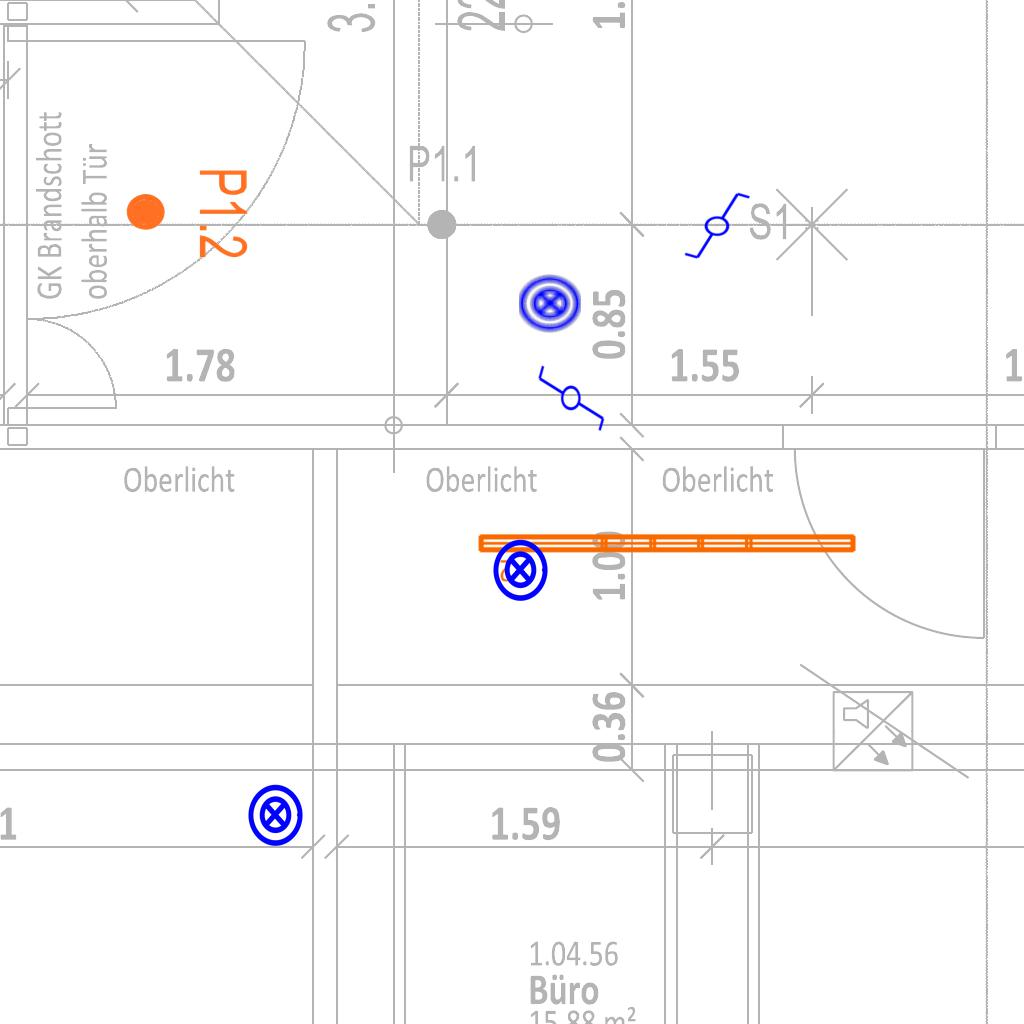Ambulanz_Pendelleuchte_LED: (474, 528, 861, 584)
Downlight_LED_Einbauleuchten_Flur: (123, 167, 251, 260)
Taster_beleuchtet: (517, 270, 583, 336), (242, 782, 308, 848), (487, 537, 553, 603)
Wechselschalter: (674, 189, 752, 261), (536, 355, 608, 433)
